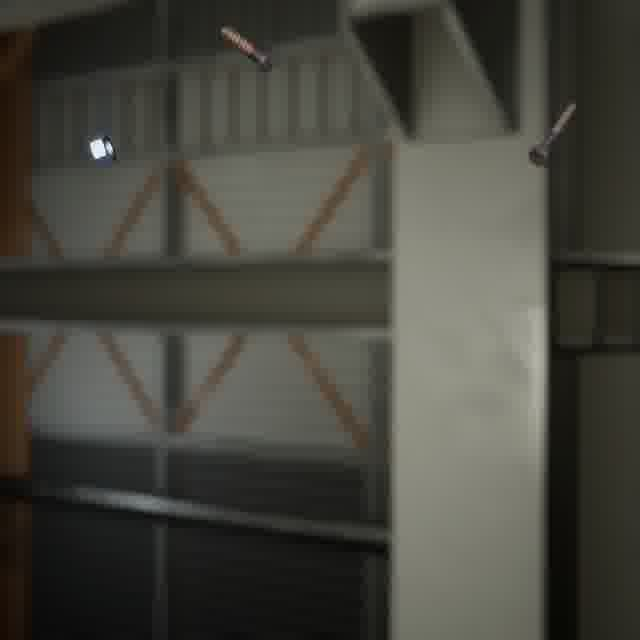bolt: (524, 98, 581, 170), (216, 21, 280, 78)
nut: (85, 128, 120, 172)
